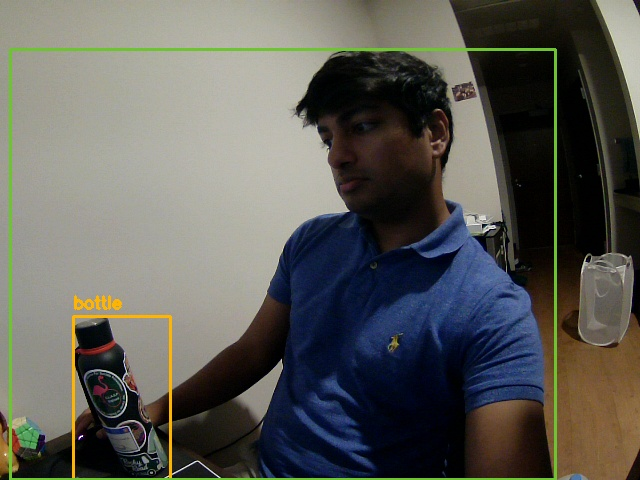bottle: (73, 316, 170, 479)
